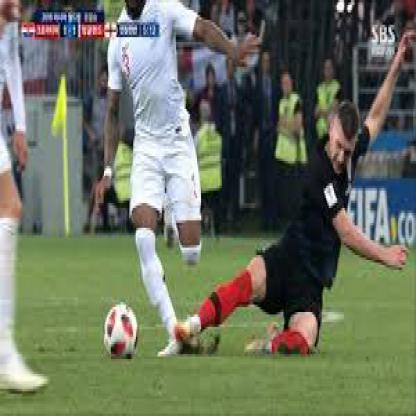Fall_Down: (174, 26, 414, 360)
